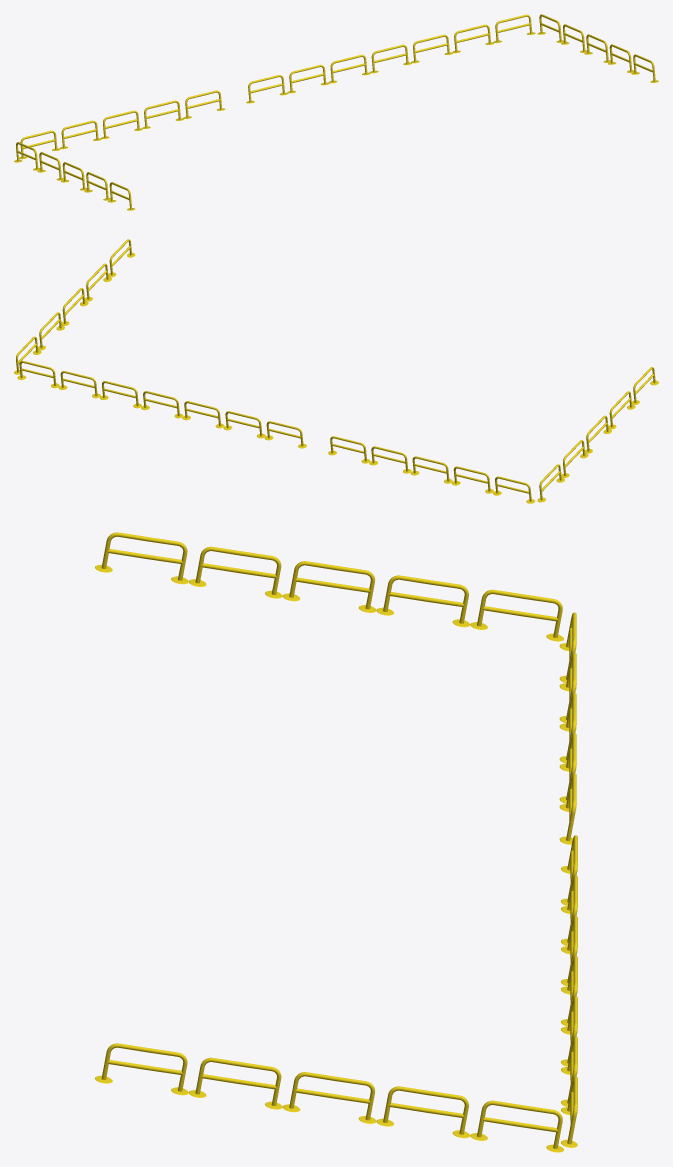
The picture shows the model from 3 angles, top to bottom: view 1: azimuth 30°, elevation 25°; view 2: azimuth 150°, elevation 25°; view 3: azimuth 270°, elevation 25°; orthographic projection. The views are drawn at different scales.
Parts seen in each view (by area): view 1: Cylinder.003, Cylinder.001, Cylinder.002, Cylinder; view 2: Cylinder.003, Cylinder.001, Cylinder, Cylinder.002; view 3: Cylinder.002, Cylinder, Cylinder.003, Cylinder.001.
Part boxes in pixels (x1=…): Cylinder.003: x1=246, y1=14, x2=535, y2=103; Cylinder.001: x1=19, y1=90, x2=225, y2=159; Cylinder.002: x1=537, y1=14, x2=658, y2=82; Cylinder: x1=14, y1=142, x2=135, y2=210; Cylinder.003: x1=17, y1=361, x2=306, y2=448; Cylinder.001: x1=328, y1=436, x2=535, y2=503; Cylinder: x1=537, y1=367, x2=658, y2=502; Cylinder.002: x1=14, y1=239, x2=135, y2=374; Cylinder.002: x1=95, y1=1043, x2=563, y2=1152; Cylinder: x1=95, y1=532, x2=563, y2=641; Cylinder.003: x1=561, y1=835, x2=577, y2=1147; Cylinder.001: x1=559, y1=612, x2=576, y2=844.
Size of the model in its own units: 1723 by 168 by 679.
